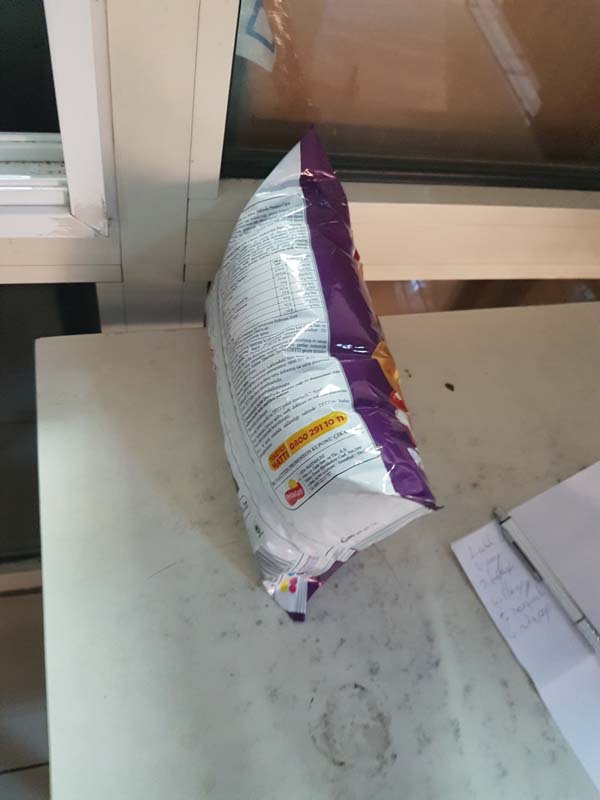layspeynirsoslu: (200, 137, 453, 624)
